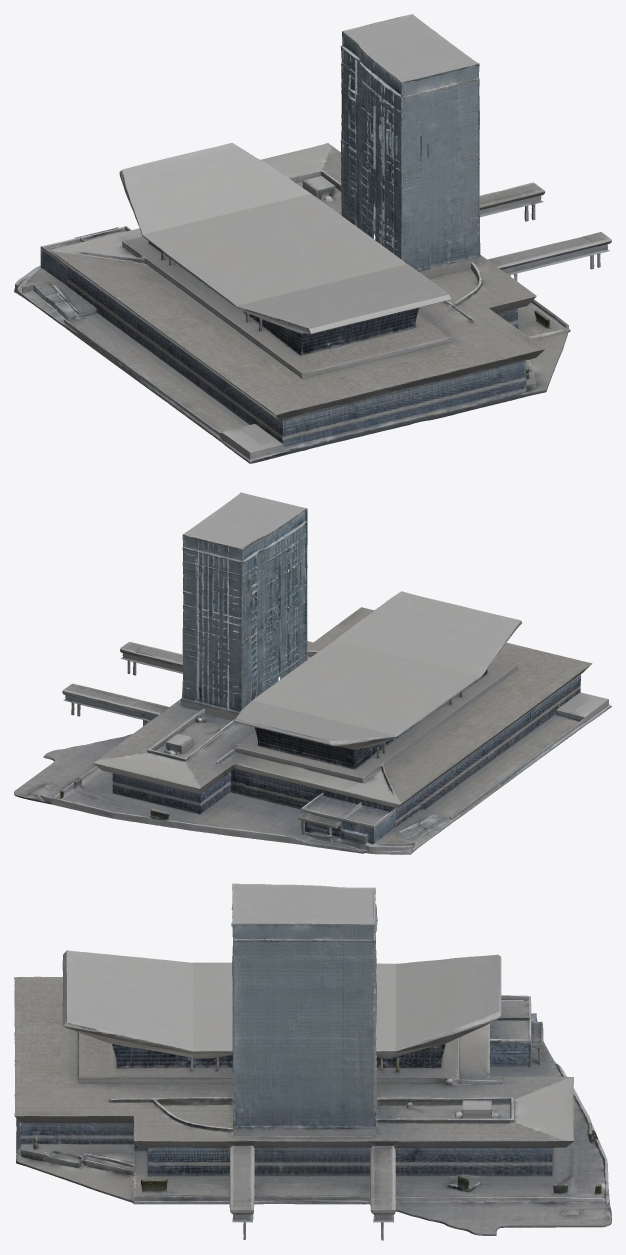
File: tourism-airport-lod2.glb
3 renders of one model, top to bottom at view 1: azimuth 30°, elevation 25°; view 2: azimuth 150°, elevation 25°; view 3: azimuth 270°, elevation 25°, orthographic. The views are drawn at different scales.
Parts seen in each view (by area): view 1: tripo_node_b72852f2-7e75-46c5-9221-3372c963a947; view 2: tripo_node_b72852f2-7e75-46c5-9221-3372c963a947; view 3: tripo_node_b72852f2-7e75-46c5-9221-3372c963a947.
Boxes of the visible parts, x1=… form: tripo_node_b72852f2-7e75-46c5-9221-3372c963a947: x1=14, y1=14, x2=611, y2=463; tripo_node_b72852f2-7e75-46c5-9221-3372c963a947: x1=14, y1=492, x2=611, y2=854; tripo_node_b72852f2-7e75-46c5-9221-3372c963a947: x1=14, y1=883, x2=611, y2=1240.
Bounding box in the file's own units: 30867 × 15670 × 32686.
Materials: 1 (1 with a texture image).
